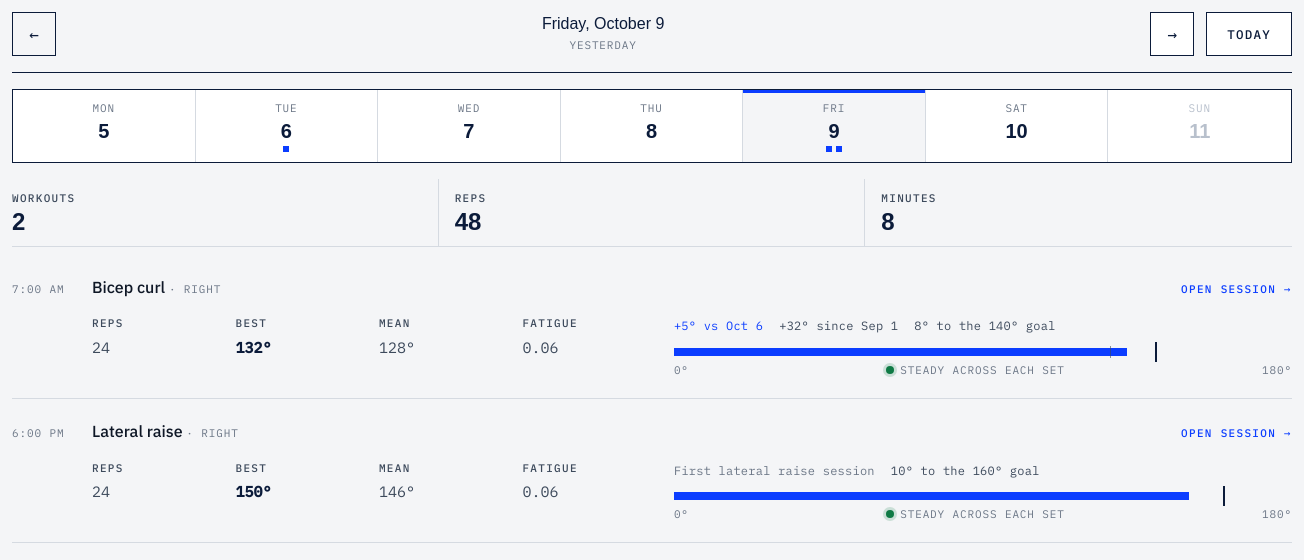
Test: DayLog › shows the week with the days that have workouts, and selects a day from it
Expected: the button with aria-label "October 11" is disabled, [1108,90,1291,162]
Click the button "Tue 6": (287, 126) [196,90,378,162]
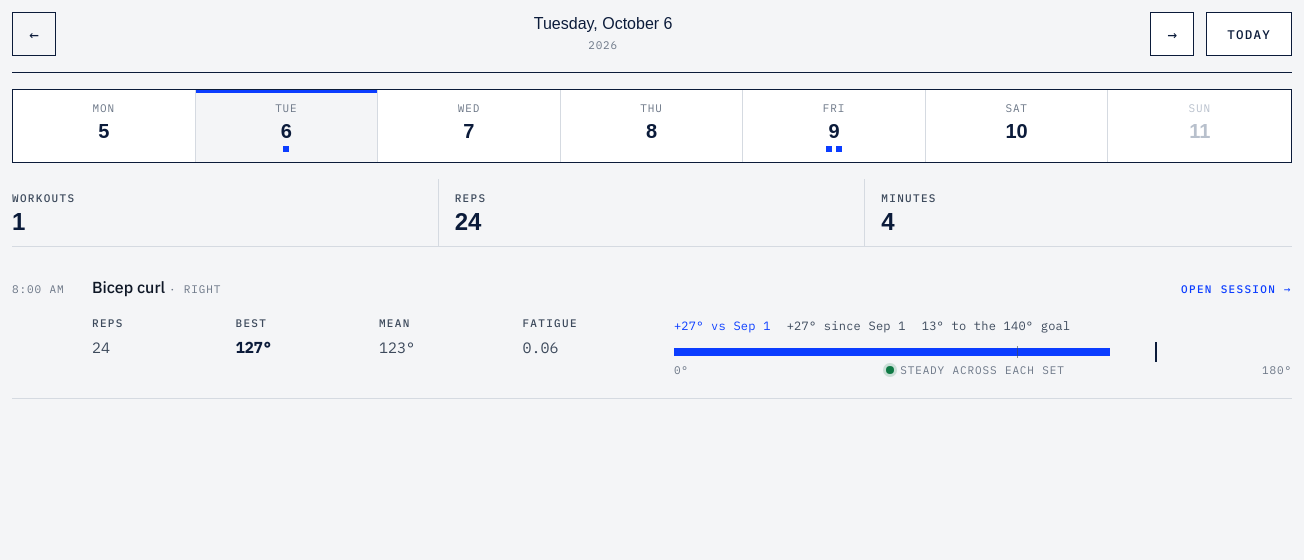
Now the heading "Tuesday, October 6" is shown, box [534,15,672,32]
